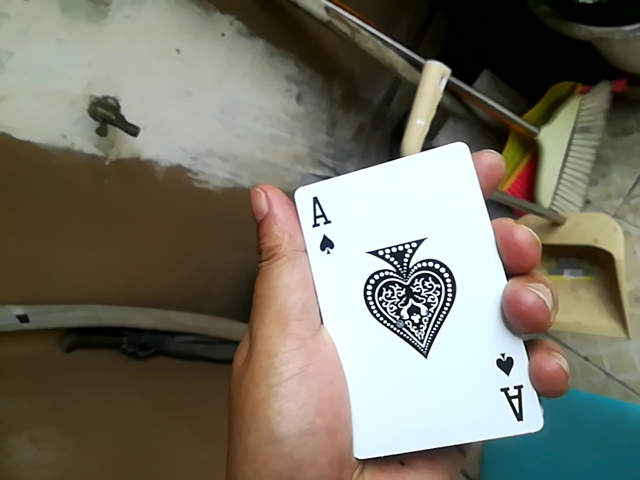ht a: (281, 142, 535, 458)
